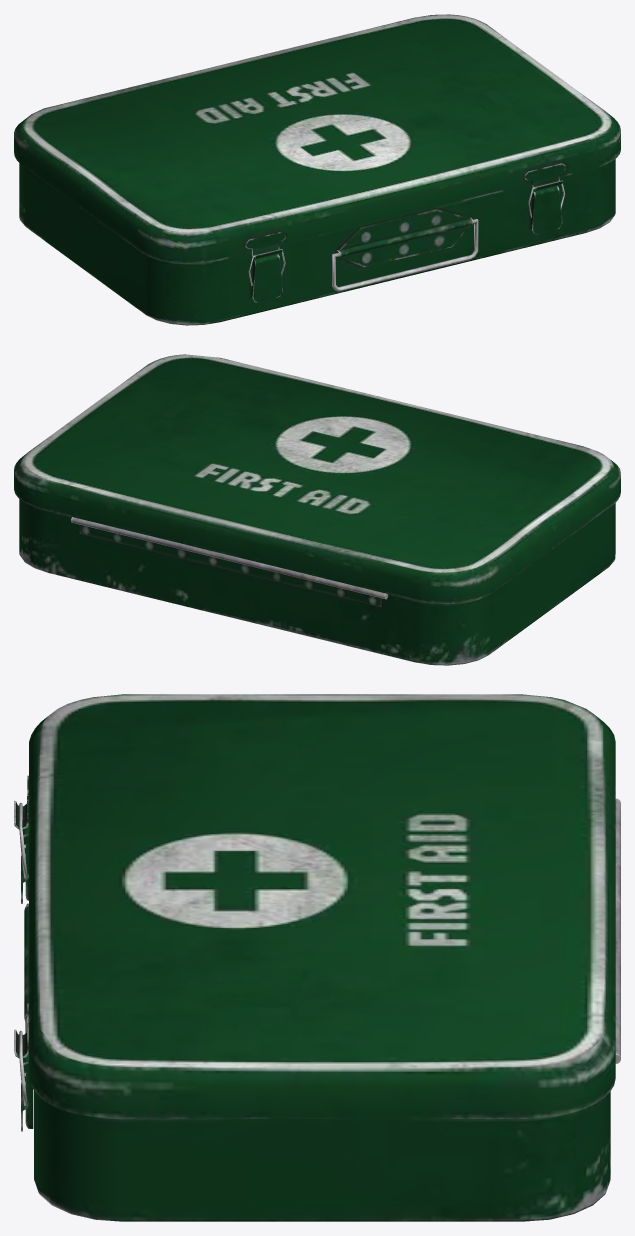
3 renders of one model, top to bottom at view 1: azimuth 30°, elevation 25°; view 2: azimuth 150°, elevation 25°; view 3: azimuth 270°, elevation 25°, orthographic. The views are drawn at different scales.
Visible parts, largest first — view 1: medical_box_latch; view 2: medical_box_latch; view 3: medical_box_latch.
Boxes of the visible parts, x1,y1,x2,y2 form: medical_box_latch: (14, 14, 620, 325); medical_box_latch: (14, 354, 620, 665); medical_box_latch: (14, 694, 620, 1221).
Bounding box in the file's own units: 0.5255 × 0.0975 × 0.3501.
Materials: 1 (1 with a texture image).
